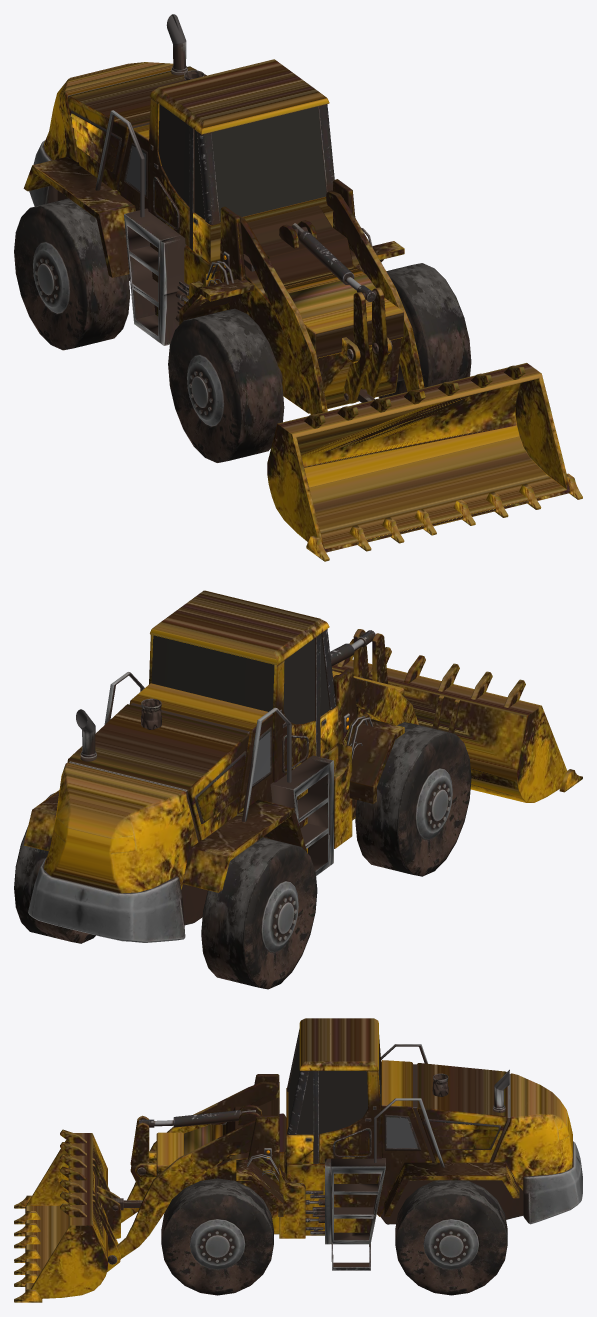
Rendered from bulldozer.glb.
3 renders of one model, top to bottom at view 1: azimuth 30°, elevation 25°; view 2: azimuth 150°, elevation 25°; view 3: azimuth 270°, elevation 25°, orthographic. The views are drawn at different scales.
Visible parts, largest first — view 1: BODY, W4, W5, W2, W0, W1; view 2: BODY, W5, W4, W0, W3; view 3: BODY, W2, W3, W1, W0.
Part boxes in pixels (x1,y1,x2,y2): BODY: [23, 14, 582, 561]; W4: [168, 308, 284, 462]; W5: [14, 198, 130, 350]; W2: [378, 263, 471, 398]; W0: [206, 206, 327, 414]; W1: [326, 179, 424, 391]; BODY: [23, 590, 582, 952]; W5: [201, 837, 317, 989]; W4: [355, 722, 471, 876]; W0: [333, 668, 418, 758]; W3: [14, 793, 95, 943]; BODY: [14, 1018, 582, 1302]; W2: [161, 1178, 273, 1295]; W3: [395, 1180, 507, 1295]; W1: [108, 1115, 279, 1264]; W0: [121, 1074, 279, 1222].
Bounding box in the file's own units: 2.98 × 3.13 × 7.5.
Materials: 5 (4 with a texture image).
